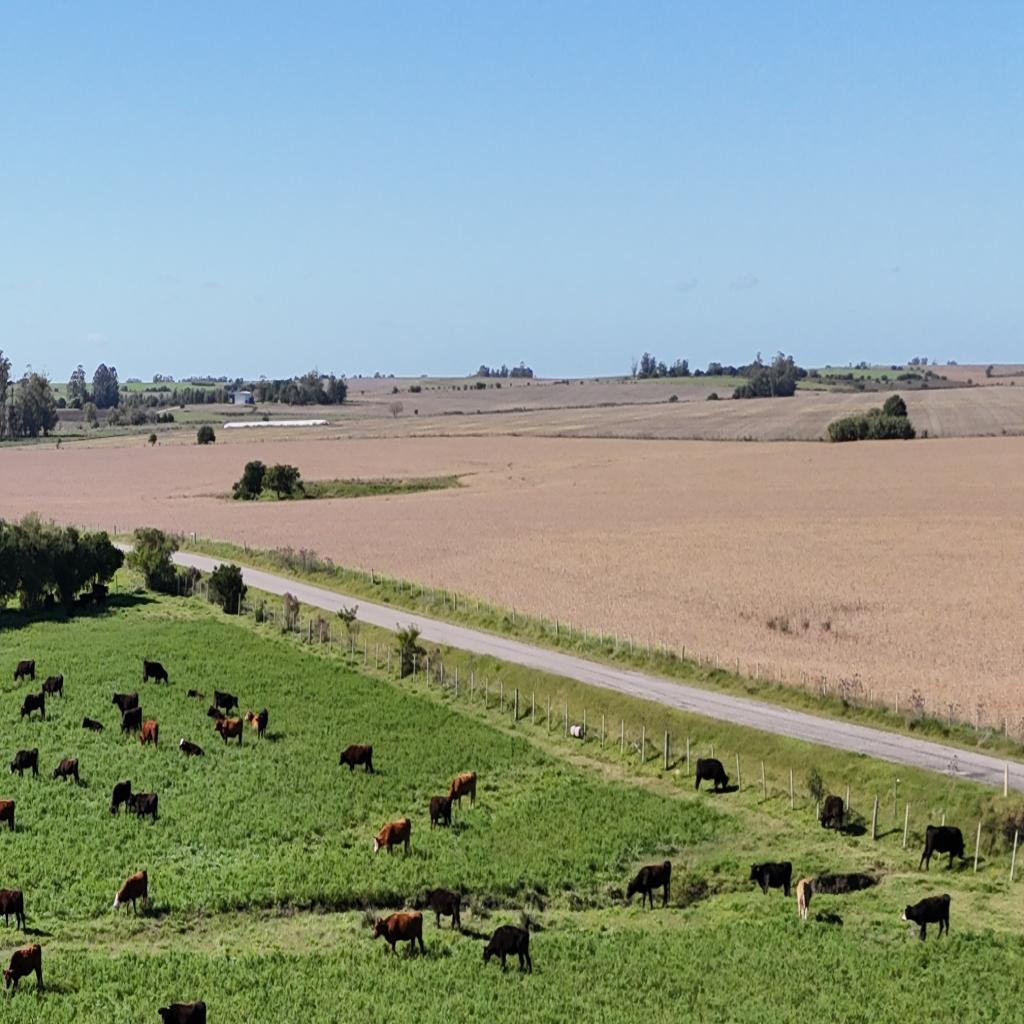cow: (369, 908, 425, 960), (483, 922, 532, 974), (901, 893, 951, 942), (625, 861, 670, 912), (917, 824, 964, 872), (2, 942, 44, 994), (804, 871, 878, 897), (421, 886, 462, 931), (112, 869, 148, 915), (749, 860, 790, 899), (372, 818, 411, 858), (158, 1000, 206, 1024), (0, 887, 26, 931), (695, 758, 728, 792), (127, 790, 159, 824), (449, 772, 477, 810), (338, 743, 372, 774), (214, 718, 244, 750), (820, 794, 844, 834), (9, 748, 38, 779), (430, 794, 454, 830), (52, 756, 80, 786), (795, 876, 813, 921), (20, 692, 46, 722), (110, 780, 132, 815), (245, 707, 269, 738), (212, 688, 238, 716), (112, 692, 140, 718), (120, 705, 142, 738), (142, 659, 168, 686), (807, 909, 844, 927), (139, 719, 159, 750), (41, 674, 64, 700), (13, 659, 36, 684), (0, 798, 15, 834), (178, 738, 205, 758), (91, 584, 109, 607), (82, 716, 104, 733), (41, 590, 60, 609), (207, 704, 226, 721), (68, 589, 83, 609), (569, 724, 584, 740), (88, 593, 100, 608), (187, 689, 204, 699)
